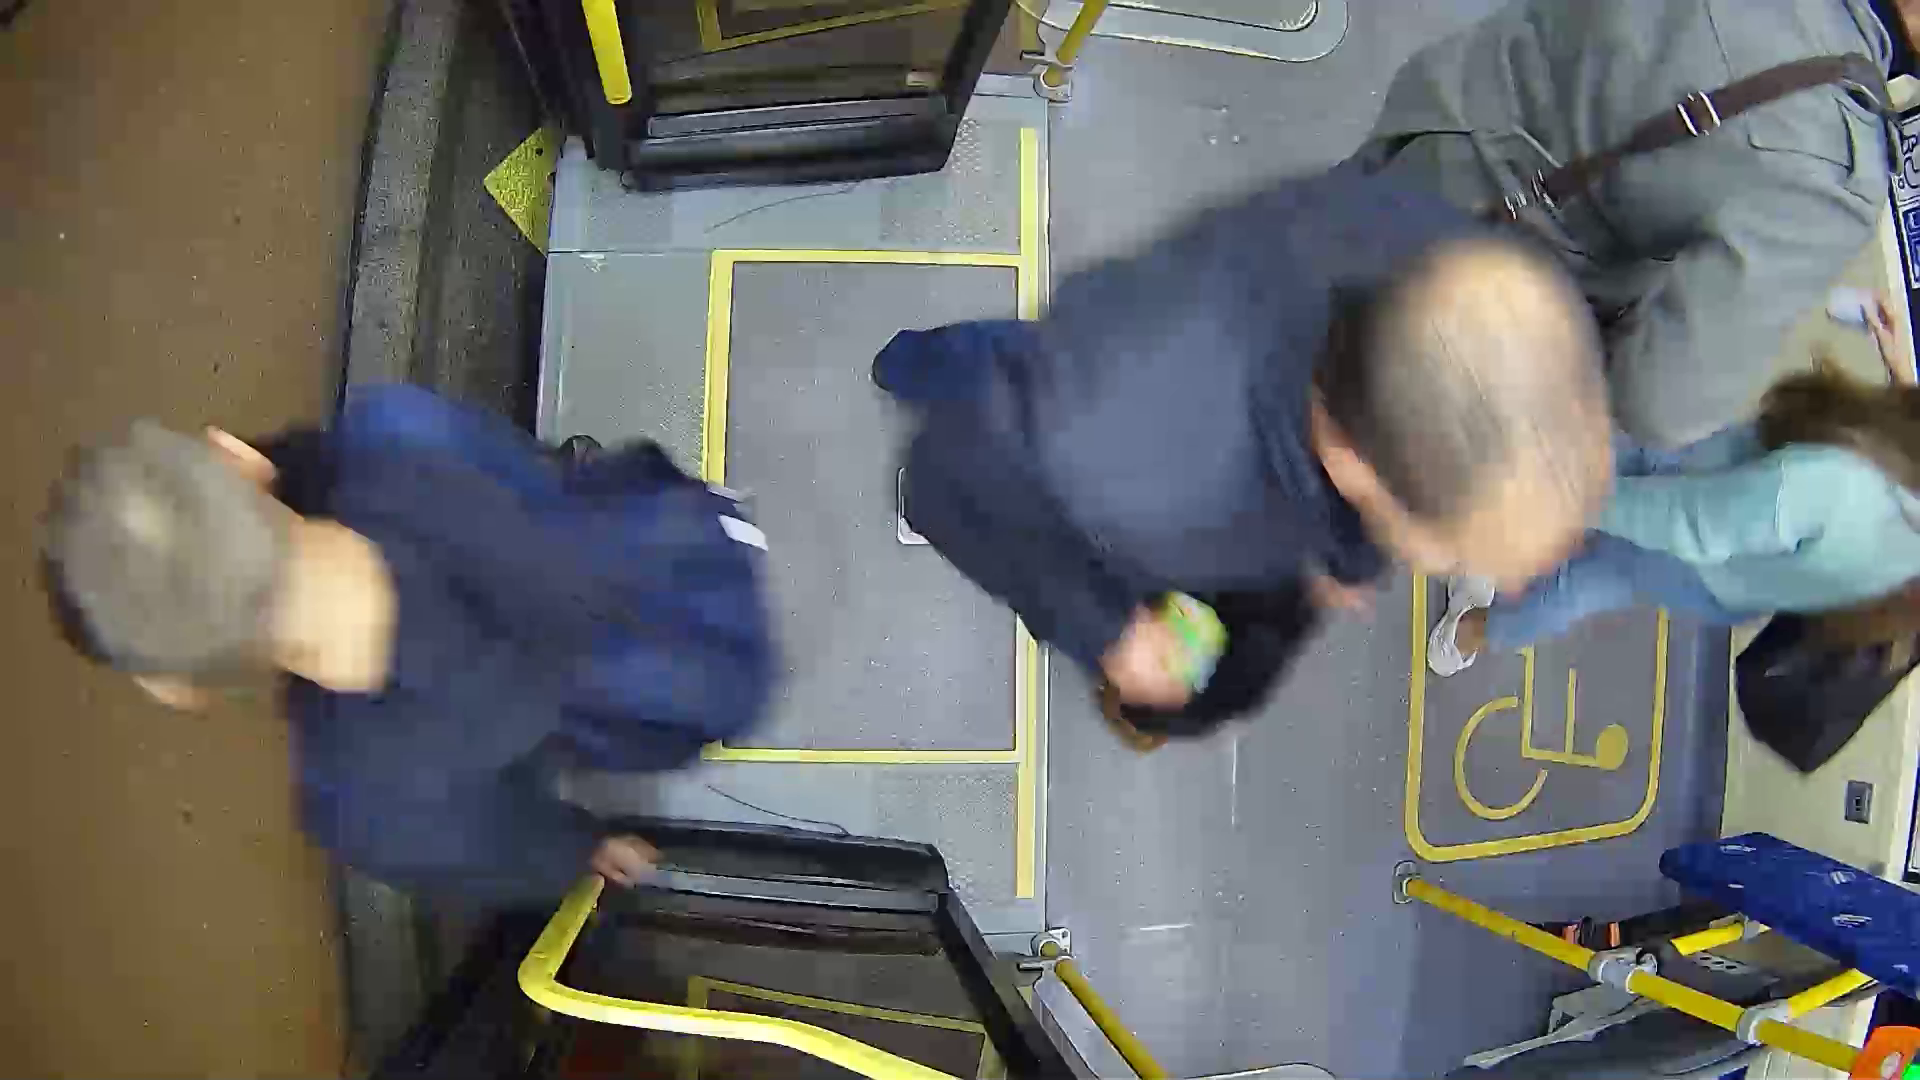person: (910, 81, 1643, 749), (4, 333, 792, 901)
